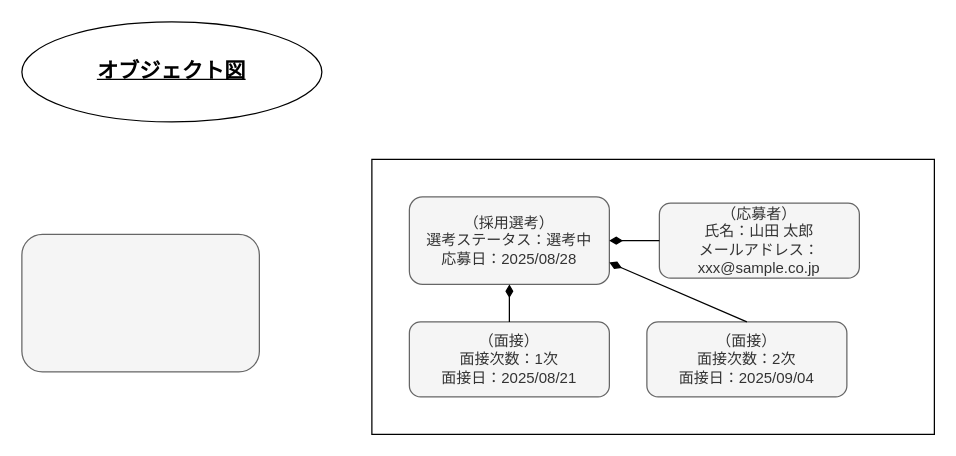
The diagram is 956 pixels wide and 456 high, and some of its shapes have lost their labels. Each missing label, with the box of its shape:
◆2次選考を控えている応募者: (371, 158, 934, 434)
（採用ポジション） ポジション名：サーバーサイドエンジニア 募集ステータス：募集中 募集人数：3人: (21, 233, 259, 372)
